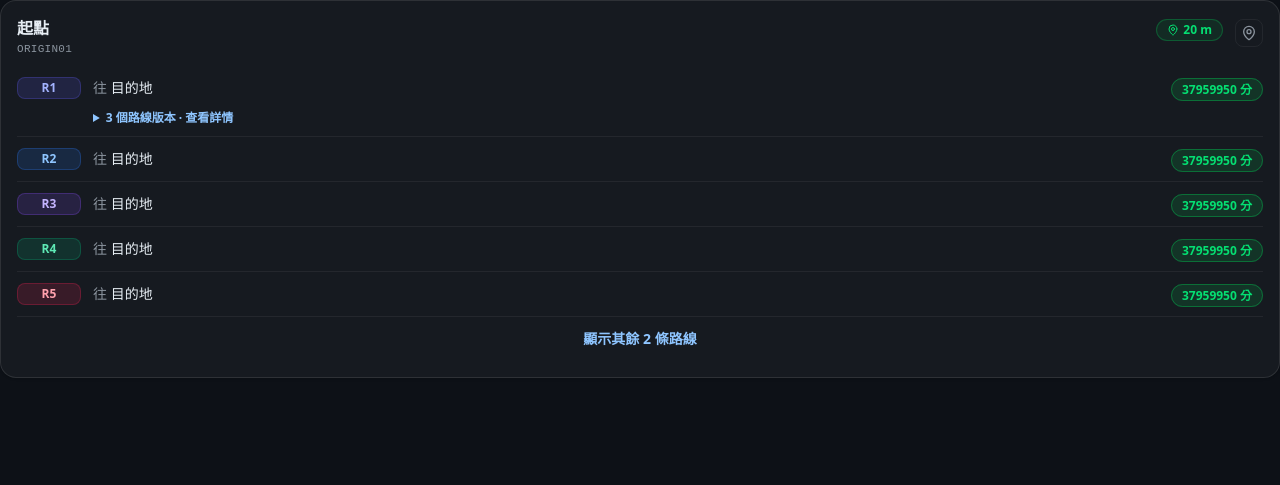
Test case: StopCard service-type predictions › counts route containers rather than variants for the five-route limit
Check: the link "R5" is shown, box x1=17 y1=282 x2=81 y2=304
Check: the text "R6" is not shown
Click the button "顯示其餘 2 條路線" at (640, 338), box x1=17 y1=316 x2=1263 y2=360
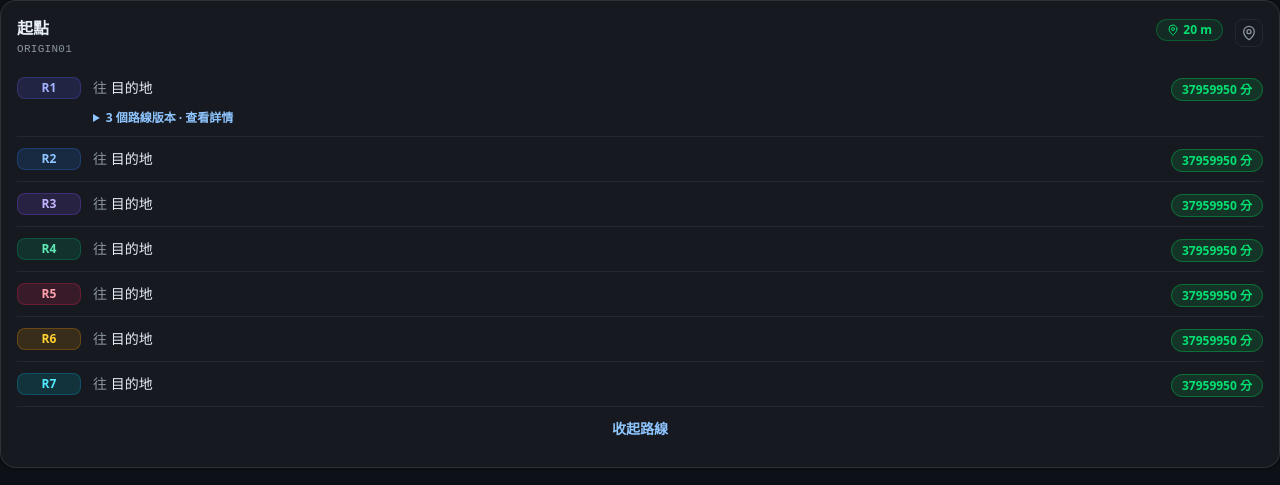
Check: the link "R7" is shown, box x1=17 y1=372 x2=81 y2=394
